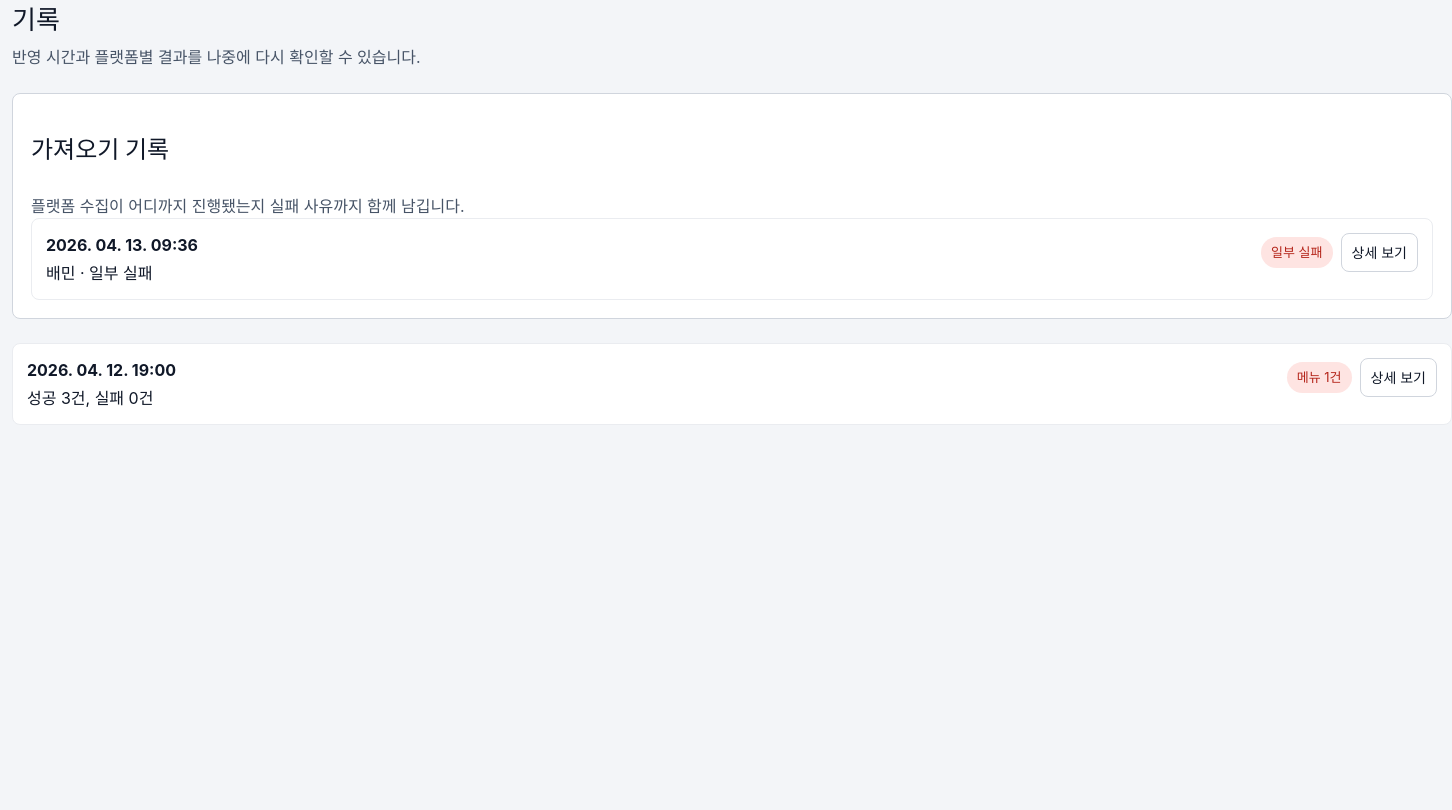
Scenario: HistoryPage › shows the latest run summary from the local history store in Korean copy
expect the text "성공 3건, 실패 0건" is shown: met, box [27,388,153,408]
expect the text "배민 · 일부 실패" is shown: met, box [46,263,152,283]
What coordinates should you click on to do the following:
click the button "상세 보기" next to "메뉴 1건"
I would click on:
 (1398, 377)
Its box is [1360,358,1437,397].
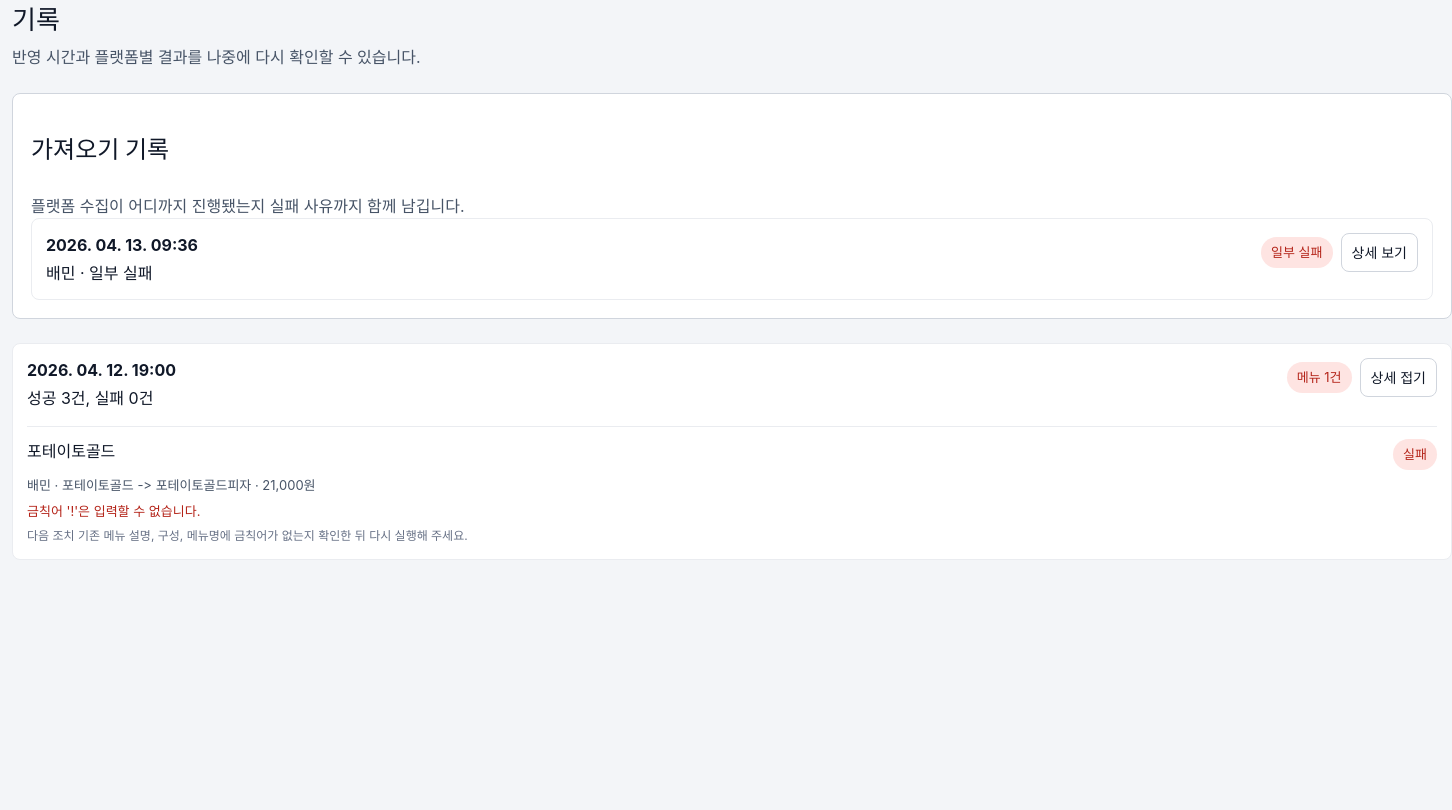
expect the text "배민 · 포테이토골드 -> 포테이토골드피자 · 21,000원" is shown: met, box [27,477,316,493]
expect the text "금칙어 '!'은 입력할 수 없습니다." is shown: met, box [27,503,200,519]
expect the text "다음 조치 기존 메뉴 설명, 구성, 메뉴명에 금칙어가 없는지 확인한 뒤 다시 실행해 주세요." is shown: met, box [27,528,468,543]
What coordinates should you click on to do the following:
click the button "상세 보기"
I would click on:
 (1379, 252)
Its box is [1340,233,1418,272].
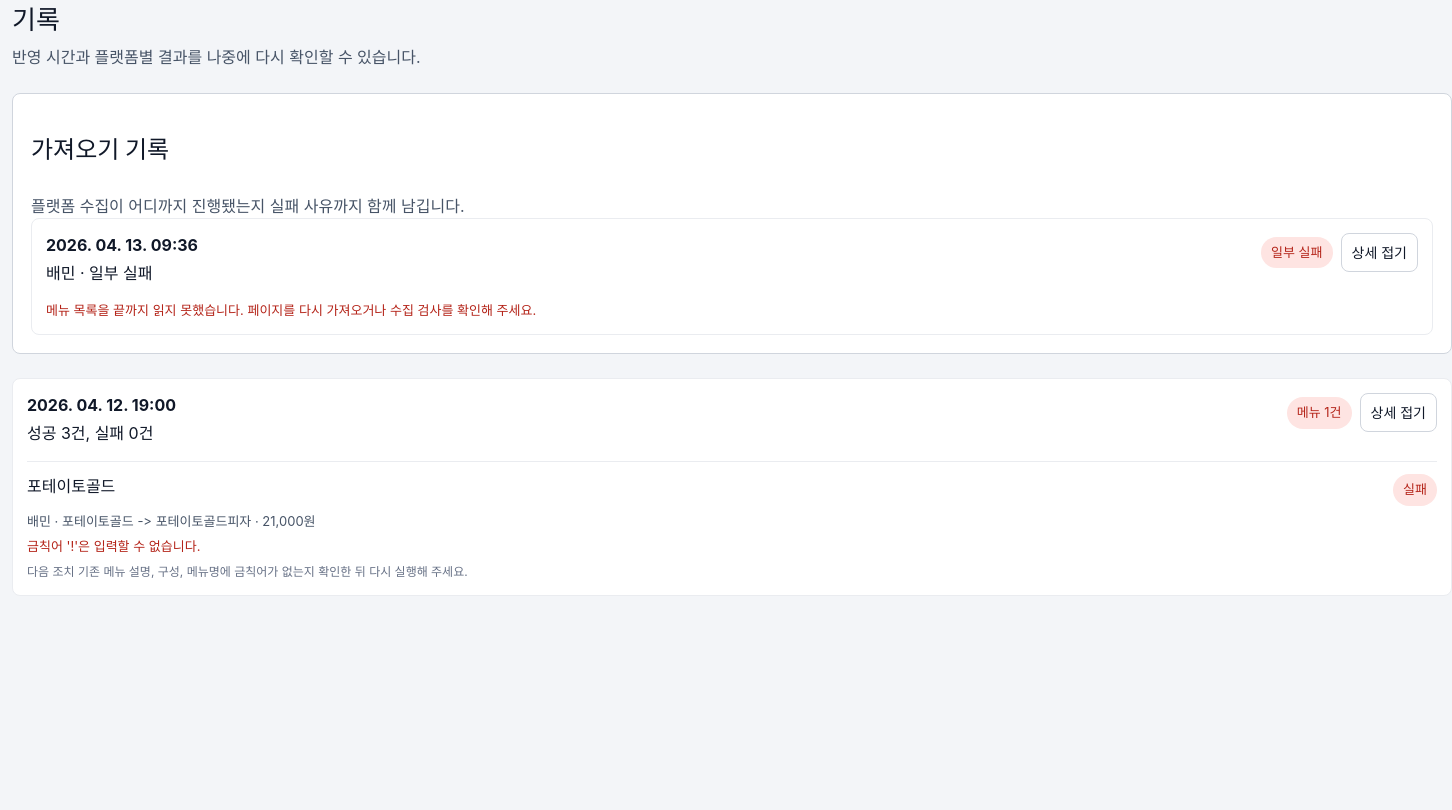
expect the text "메뉴 목록을 끝까지 읽지 못했습니다. 페이지를 다시 가져오거나 수집 검사를 확인해 주세요." is shown: met, box [46,302,536,318]
